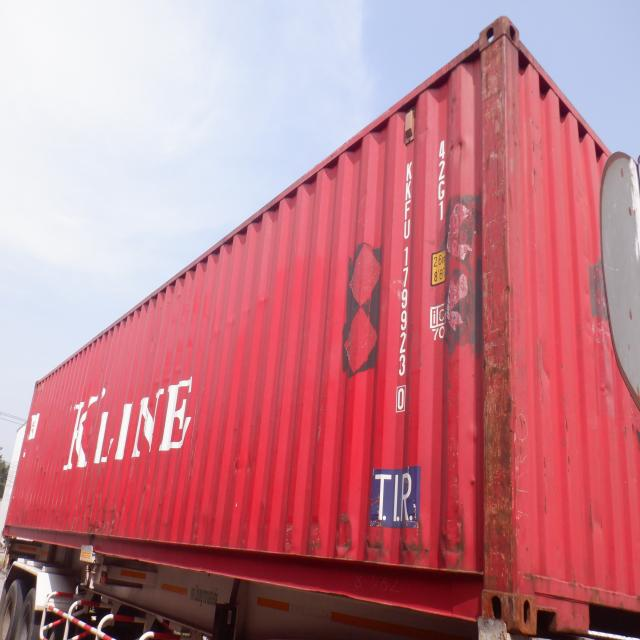dent: (327, 509, 479, 570), (83, 503, 127, 538), (445, 135, 478, 167), (596, 374, 620, 413), (587, 499, 607, 535), (306, 519, 324, 553), (36, 459, 49, 478)
